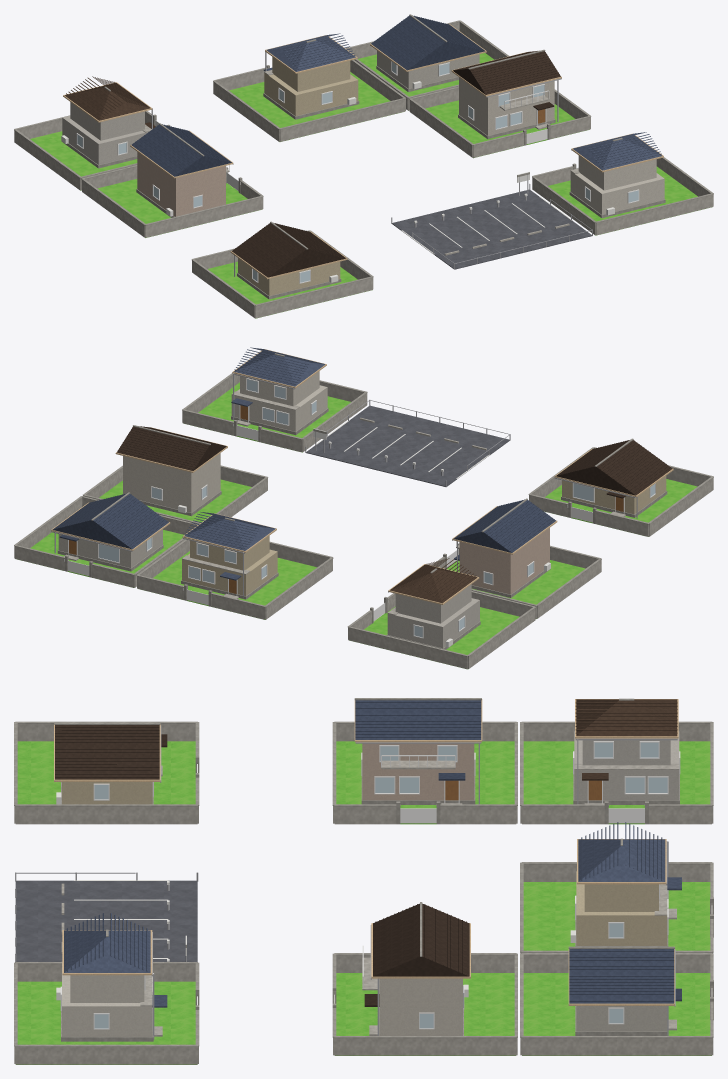
The model's file is neighbours.glb.
The picture shows the model from 3 angles, top to bottom: view 1: azimuth 30°, elevation 25°; view 2: azimuth 150°, elevation 25°; view 3: azimuth 270°, elevation 25°; orthographic projection. The views are drawn at different scales.
Parts seen in each view (by area): view 1: balcony_east, yard_back, parking_slab, coping_back_x-7.6, course_east-back_1_1, course_east_1_1, gf_back, course_back_1_1, gf_south-east, gf_west, gf_west-back, gf_east (+7 smaller); view 2: balcony_east, yard_back, parking_slab, coping_back_x-7.6, course_east-back_1_1, course_east_1_1, course_back_1_1, gf_back, gf_east, gf_west-back, gf_west, backw_back_b (+7 smaller); view 3: yard_back, balcony_east, coping_back_x-7.6, course_east_1_1, parking_slab, course_east-back_1_1, course_back_1_1, gf_back, gf_south-east, gf_east, gf_west-back, gf_west (+8 smaller).
Part boxes in pixels (x1,y1,x2,y2): balcony_east: (14, 22, 713, 318); yard_back: (30, 53, 711, 318); parking_slab: (392, 189, 591, 269); coping_back_x-7.6: (14, 14, 713, 306); course_east-back_1_1: (131, 15, 485, 176); course_east_1_1: (232, 51, 560, 277); gf_back: (238, 57, 358, 295); course_back_1_1: (263, 33, 662, 170); gf_south-east: (570, 155, 664, 214); gf_west: (137, 152, 225, 216); gf_west-back: (62, 102, 148, 164); gf_east: (459, 77, 554, 135); balcony_east: (14, 375, 713, 669); yard_back: (17, 382, 697, 669); parking_slab: (306, 405, 509, 486); coping_back_x-7.6: (14, 353, 713, 656); course_east-back_1_1: (52, 493, 555, 560); course_east_1_1: (117, 426, 672, 498); course_back_1_1: (184, 347, 325, 580); gf_back: (182, 476, 666, 595); gf_east: (123, 453, 220, 512); gf_west-back: (387, 584, 479, 648); gf_west: (459, 528, 549, 594); backw_back_b: (68, 378, 655, 638); yard_back: (16, 741, 711, 1064); balcony_east: (14, 724, 713, 1064); coping_back_x-7.6: (14, 698, 713, 1046); course_east_1_1: (55, 725, 469, 1006); parking_slab: (16, 880, 197, 961); course_east-back_1_1: (355, 700, 681, 1003); course_back_1_1: (64, 822, 681, 1007); gf_back: (62, 782, 667, 945); gf_south-east: (62, 962, 152, 1036); gf_east: (379, 978, 462, 1035); gf_west-back: (574, 731, 679, 800); gf_west: (362, 743, 474, 800).
Bounding box in the file's own units: 54.95 × 7.05 × 50.07.
21 materials, 16 textured.
